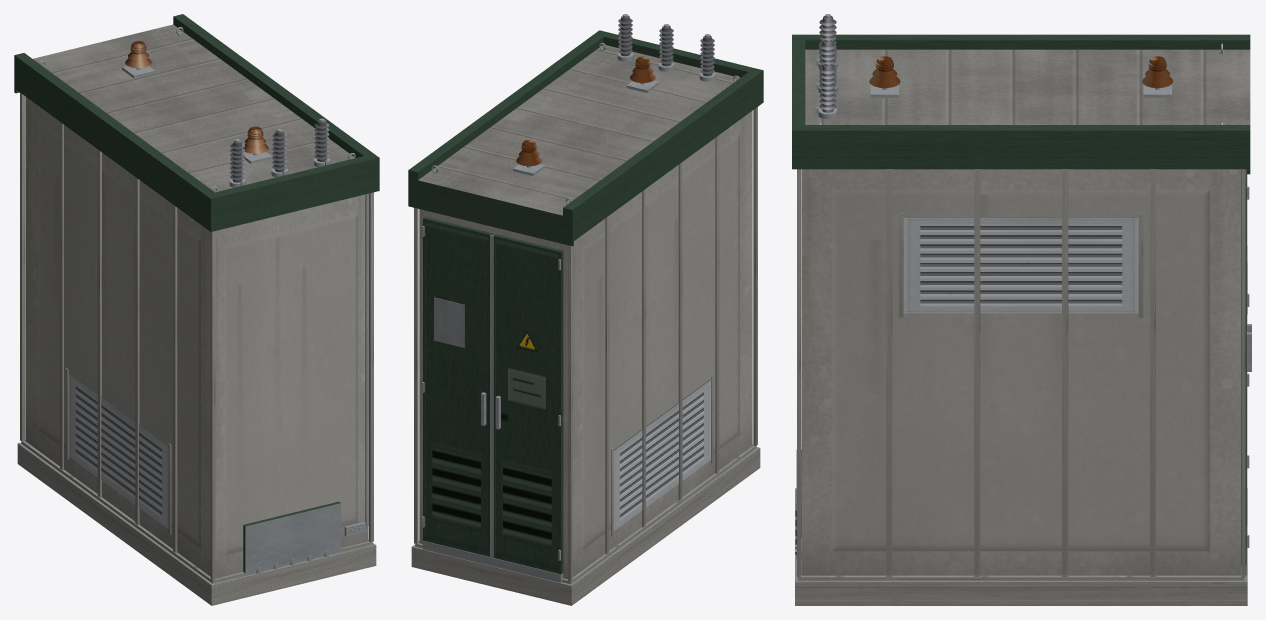
File: cab.obj
The picture shows the model from 3 angles, left to right: view 1: azimuth 30°, elevation 25°; view 2: azimuth 150°, elevation 25°; view 3: azimuth 270°, elevation 25°; orthographic projection. The views are drawn at different scales.
Parts seen in each view (by area): view 1: body, roof, plinth, vent, entryplate, signage, arrester_3, arrester_2, arrester_1, hardware, insulator_output, insulator_input; view 2: body, door, roof, plinth, vent, signage, arrester_3, arrester_1, arrester_2, hardware, insulator_output, insulator_input; view 3: body, roof, vent, plinth, door, arrester_3, insulator_output, insulator_input, hardware.
Part boxes in pixels (x1=…): body: x1=20, y1=92, x2=373, y2=580; roof: x1=14, y1=14, x2=379, y2=231; plinth: x1=17, y1=440, x2=376, y2=605; vent: x1=65, y1=368, x2=171, y2=534; entryplate: x1=243, y1=501, x2=340, y2=573; signage: x1=344, y1=193, x2=368, y2=536; arrester_3: x1=313, y1=118, x2=330, y2=166; arrester_2: x1=271, y1=128, x2=288, y2=177; arrester_1: x1=229, y1=139, x2=245, y2=187; hardware: x1=122, y1=65, x2=271, y2=163; insulator_output: x1=125, y1=41, x2=151, y2=68; insulator_input: x1=243, y1=126, x2=268, y2=153; body: x1=414, y1=107, x2=757, y2=582; door: x1=422, y1=217, x2=563, y2=574; roof: x1=408, y1=30, x2=763, y2=246; plinth: x1=411, y1=444, x2=760, y2=605; vent: x1=611, y1=375, x2=713, y2=536; signage: x1=434, y1=297, x2=464, y2=347; arrester_3: x1=617, y1=14, x2=633, y2=61; arrester_1: x1=699, y1=34, x2=715, y2=81; arrester_2: x1=658, y1=24, x2=674, y2=71; hardware: x1=513, y1=80, x2=658, y2=176; insulator_output: x1=516, y1=140, x2=541, y2=166; insulator_input: x1=630, y1=56, x2=655, y2=82; body: x1=797, y1=169, x2=1247, y2=577; roof: x1=792, y1=34, x2=1250, y2=174; vent: x1=899, y1=213, x2=1143, y2=318; plinth: x1=795, y1=488, x2=1247, y2=605; door: x1=1241, y1=169, x2=1251, y2=565; arrester_3: x1=816, y1=62, x2=837, y2=119; insulator_output: x1=1142, y1=56, x2=1173, y2=87; insulator_input: x1=869, y1=56, x2=900, y2=87; hardware: x1=870, y1=84, x2=1171, y2=97.
Bounding box in the file's own units: 1.2 × 3.03 × 2.43.
